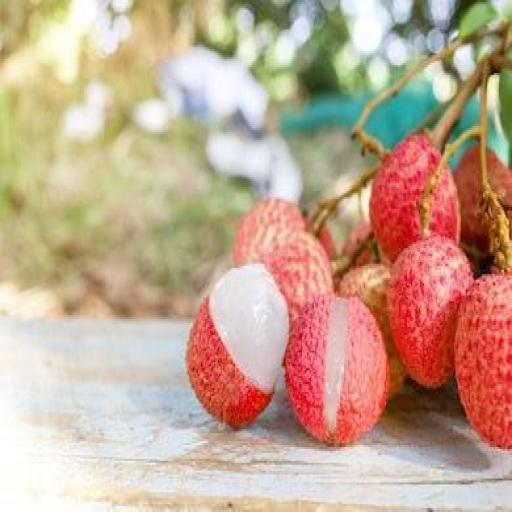lychee: (187, 264, 288, 427), (285, 294, 388, 445), (388, 237, 473, 387), (455, 274, 511, 448), (338, 264, 406, 397), (371, 134, 441, 261), (262, 233, 333, 326), (233, 197, 305, 265), (455, 146, 488, 252), (342, 221, 372, 257), (318, 225, 337, 259)
